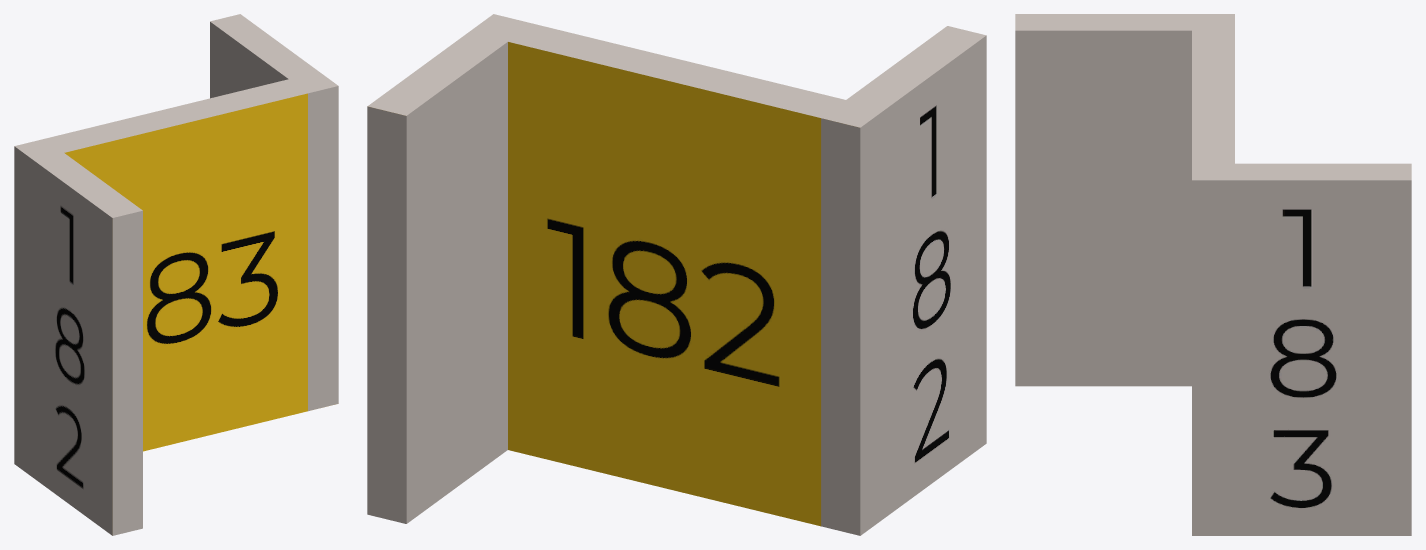
Rendered from Switch_Sign__1_.FBX.
The picture shows the model from 3 angles, left to right: view 1: azimuth 30°, elevation 25°; view 2: azimuth 150°, elevation 25°; view 3: azimuth 270°, elevation 25°; orthographic projection. The views are drawn at different scales.
Visible parts, largest first — view 1: Switch_Sign__1_; view 2: Switch_Sign__1_; view 3: Switch_Sign__1_.
Part boxes in pixels (x1,y1,x2,y2): Switch_Sign__1_: (14,14,338,535); Switch_Sign__1_: (367,14,986,535); Switch_Sign__1_: (1015,14,1411,535).
Bounding box in the file's own units: 51.06 × 51.39 × 50.86.
